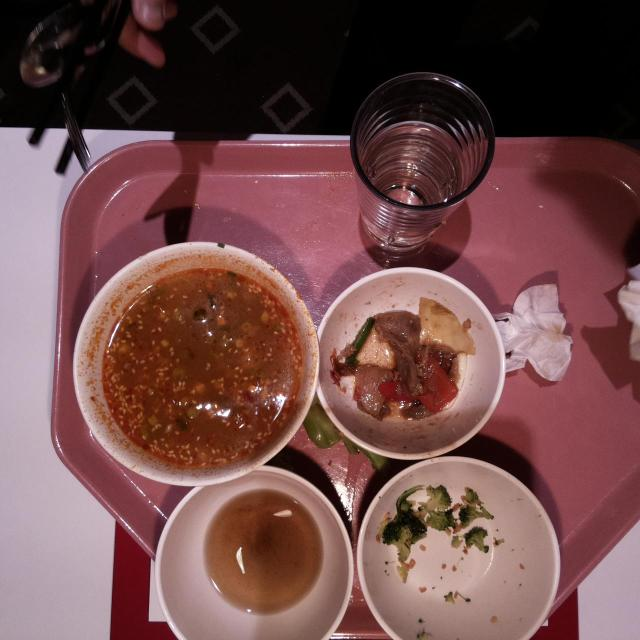Meat: (376, 311, 426, 398)
Vegetable: (383, 485, 457, 565), (458, 487, 496, 553), (303, 405, 341, 449)
